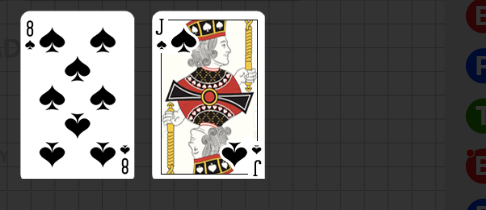8S: (118, 142, 130, 175)
JS: (220, 130, 264, 177), (153, 10, 197, 56)
